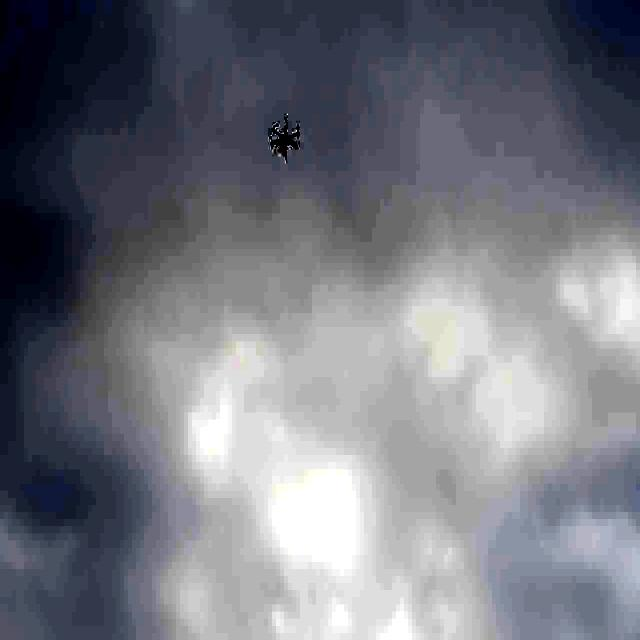drone: (271, 113, 303, 162)
